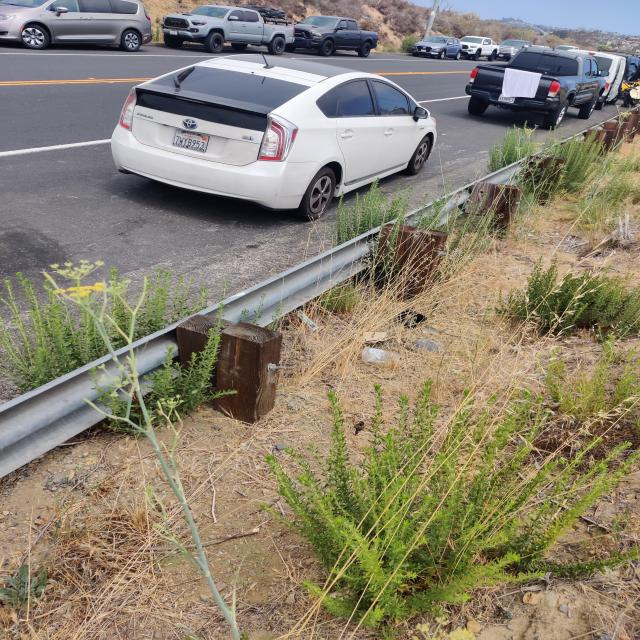litter: (362, 347, 400, 363), (364, 332, 386, 342)
